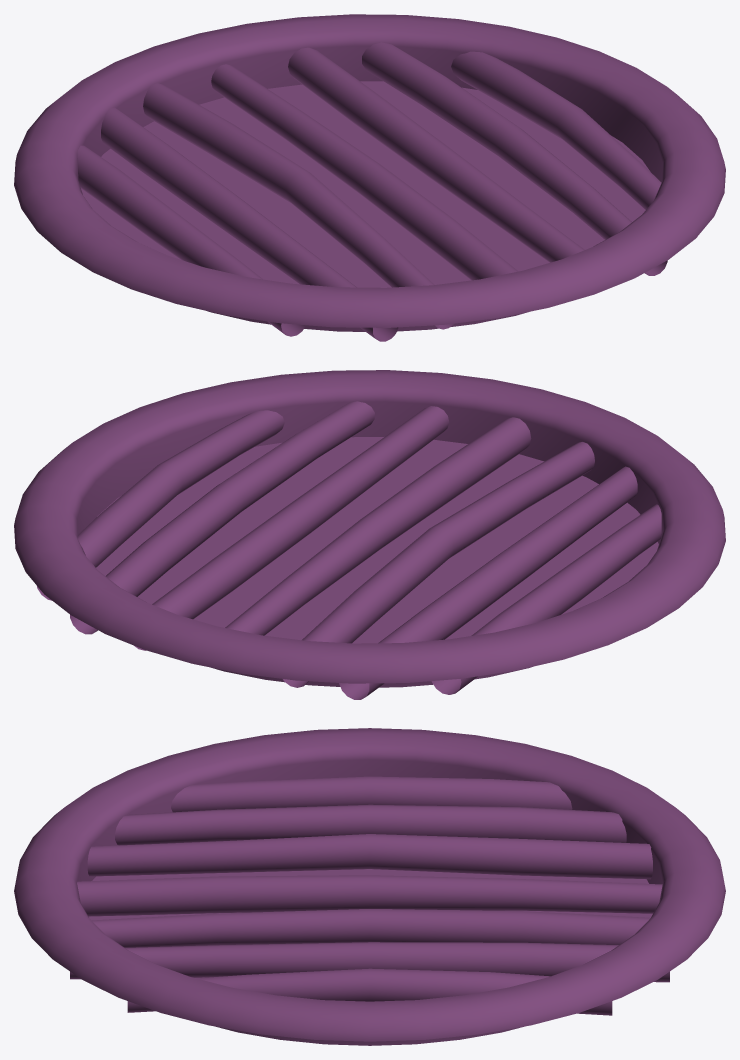
Rendered from mesh_Hazard_Fuego.fbx.
The picture shows the model from 3 angles, top to bottom: view 1: azimuth 30°, elevation 25°; view 2: azimuth 150°, elevation 25°; view 3: azimuth 270°, elevation 25°; orthographic projection.
Parts seen in each view (by area): view 1: mesh_Hazard_Fuego; view 2: mesh_Hazard_Fuego; view 3: mesh_Hazard_Fuego.
Part boxes in pixels (bbox=[...]): mesh_Hazard_Fuego: bbox=[14, 14, 725, 341]; mesh_Hazard_Fuego: bbox=[14, 370, 725, 699]; mesh_Hazard_Fuego: bbox=[14, 728, 725, 1045].
Size of the model in its own units: 604 by 50.09 by 604.
